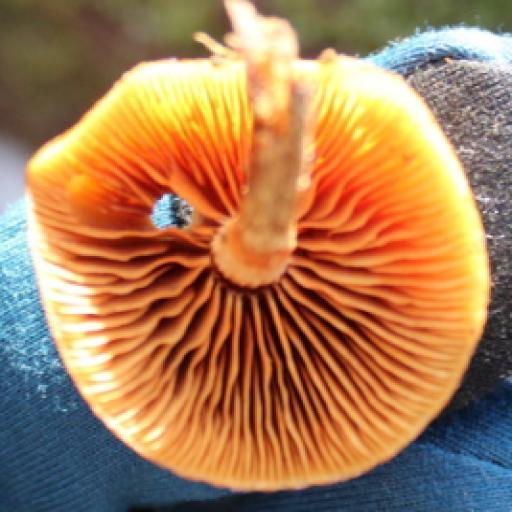mushroom: (19, 29, 500, 500)
